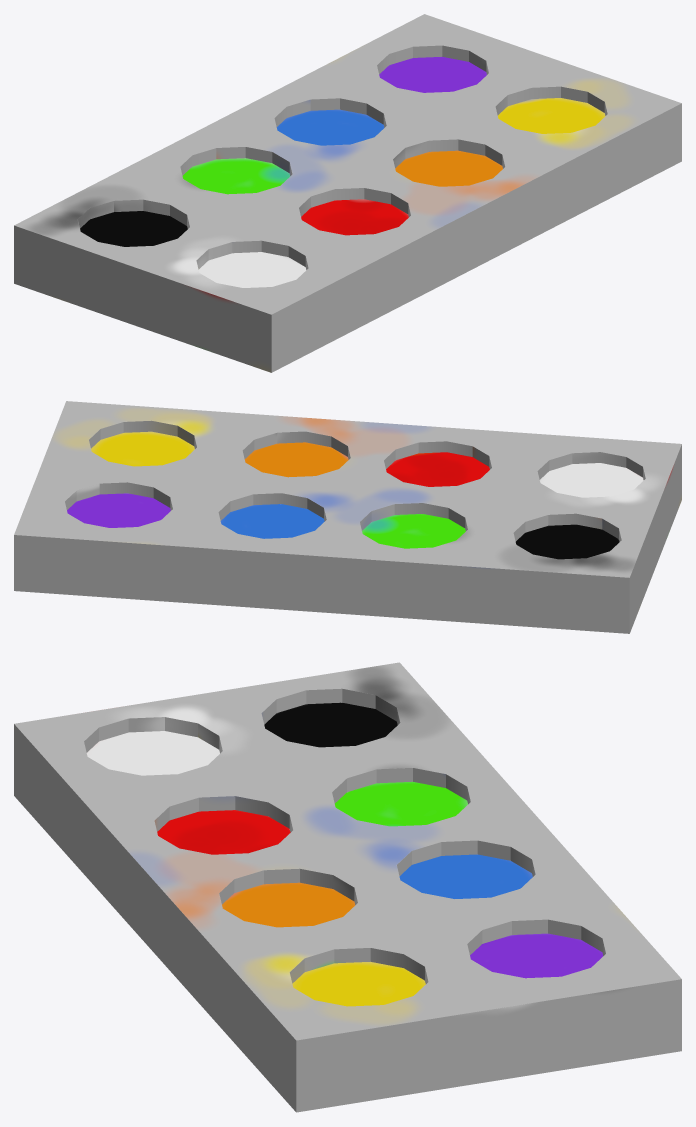
File: paintpot.fbx
The picture shows the model from 3 angles, top to bottom: view 1: azimuth 30°, elevation 25°; view 2: azimuth 150°, elevation 25°; view 3: azimuth 270°, elevation 25°; orthographic projection. The views are drawn at different scales.
Visible parts, largest first — view 1: PaintTray; view 2: PaintTray; view 3: PaintTray.
Part boxes in pixels (x1,y1,x2,y2): PaintTray: (14, 14, 681, 372); PaintTray: (14, 401, 681, 633); PaintTray: (14, 662, 681, 1112).
Bounding box in the file's own units: 345 × 30.65 × 258.
1 material, 1 textured.
